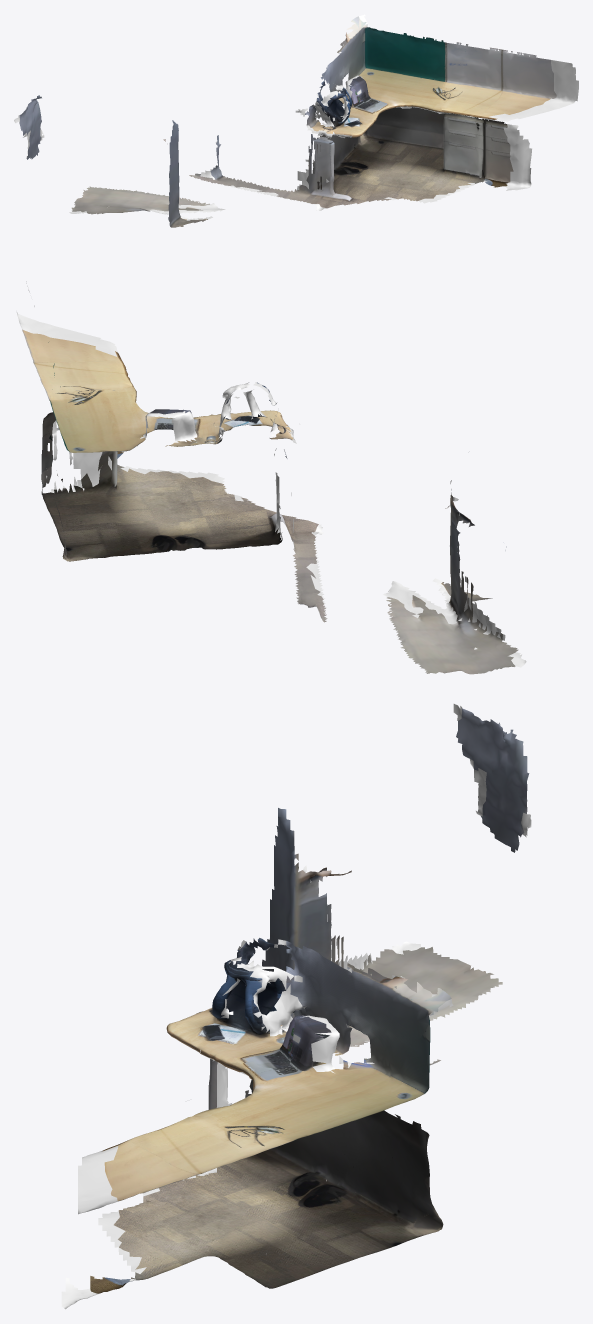
3 views of the same model, one above another, from view 1: azimuth 30°, elevation 25°; view 2: azimuth 150°, elevation 25°; view 3: azimuth 270°, elevation 25° (orthographic). The views are drawn at different scales.
Parts seen in each view (by area): view 1: texture_1, texture_0, texture_2, object 1; view 2: texture_1, texture_0, texture_2, object 1; view 3: texture_0, texture_1, texture_2, object 1.
Boxes of the visible parts, x1,y1,x2,y2 form: texture_1: (348, 22, 556, 201); texture_0: (33, 16, 435, 208); texture_2: (19, 63, 368, 227); object 1: (14, 14, 578, 220); texture_1: (22, 281, 226, 531); texture_0: (55, 382, 506, 607); texture_2: (162, 412, 518, 674); object 1: (16, 311, 526, 667); texture_0: (143, 722, 527, 1266); texture_1: (90, 1008, 438, 1293); texture_2: (180, 708, 529, 1194); object 1: (61, 704, 531, 1309).
Size of the model in its own units: 5.32 by 1.3 by 2.3.
4 materials, 3 textured.
